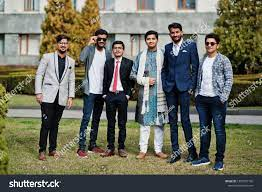men: (49, 33, 77, 60), (141, 28, 162, 52), (202, 30, 222, 55), (90, 27, 110, 51), (166, 22, 184, 46), (112, 36, 125, 63)
